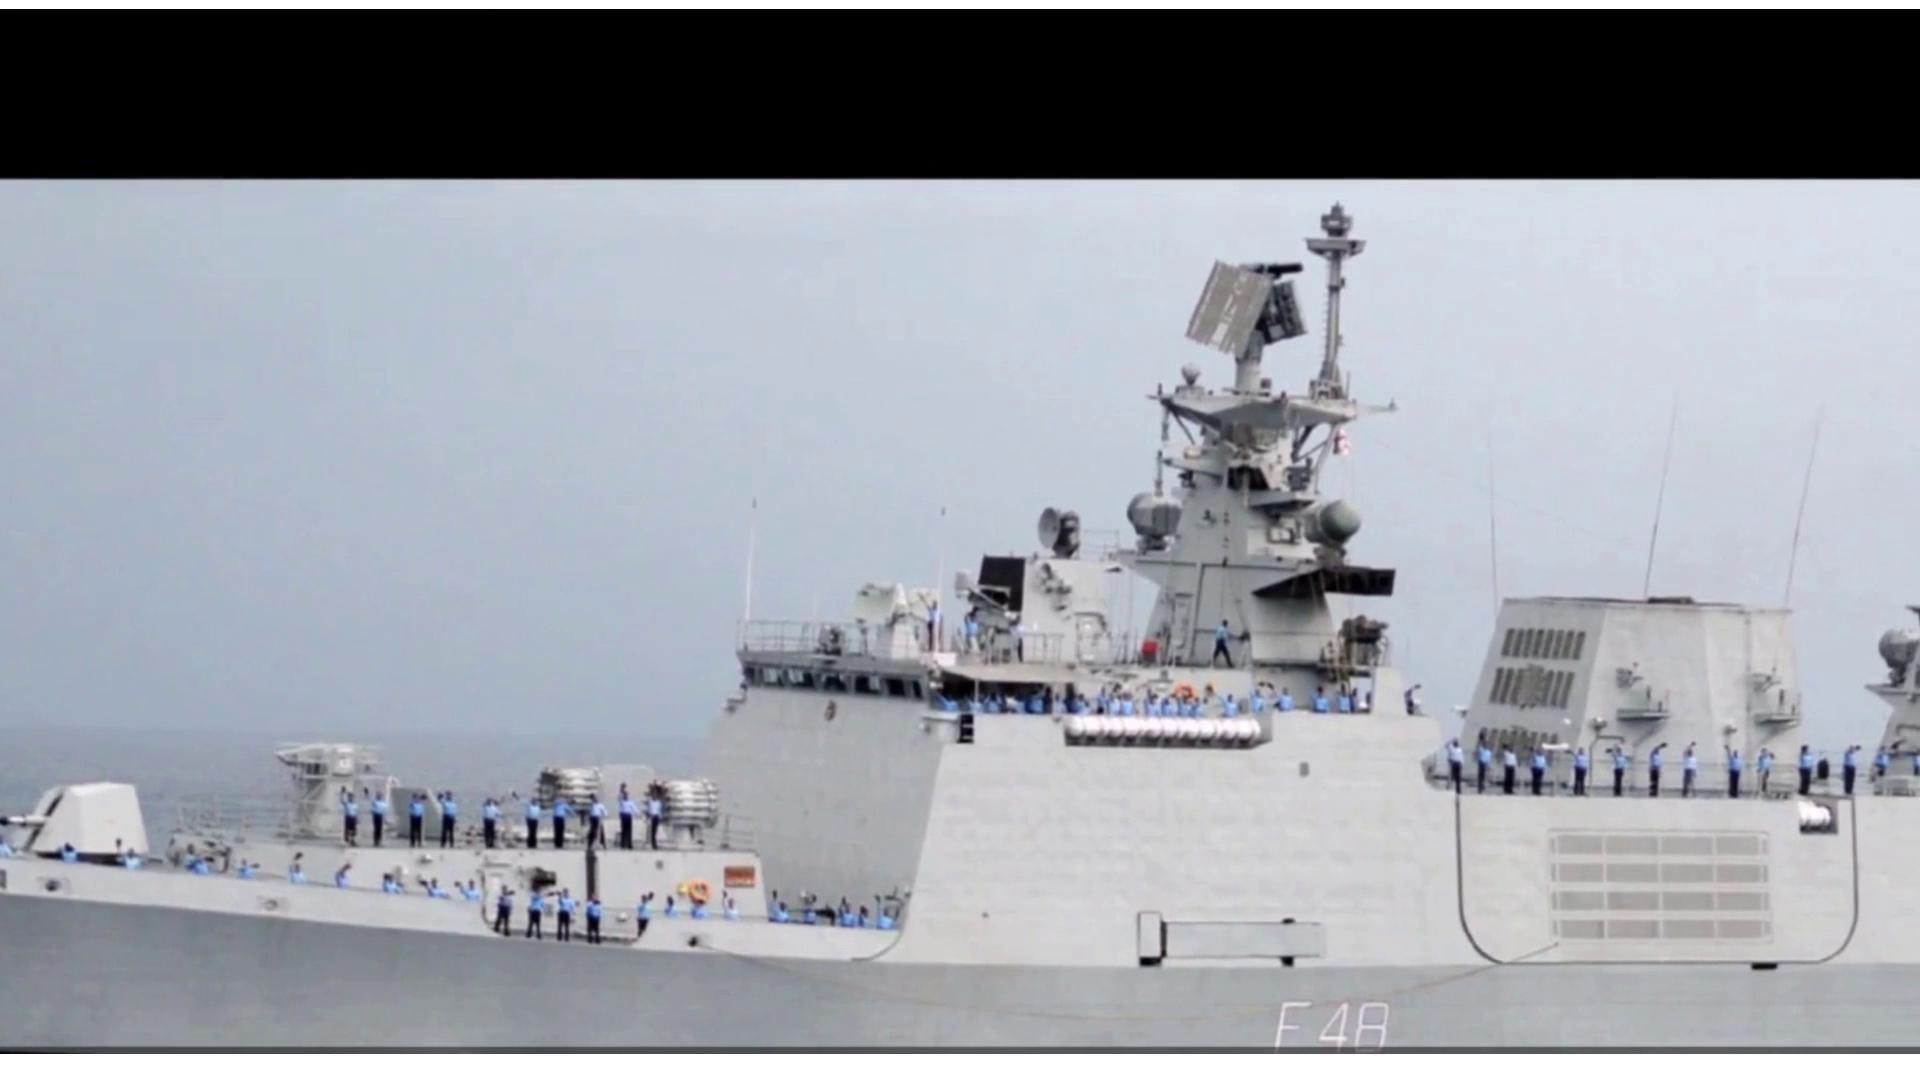OCR: (1244, 986, 1400, 1048)
